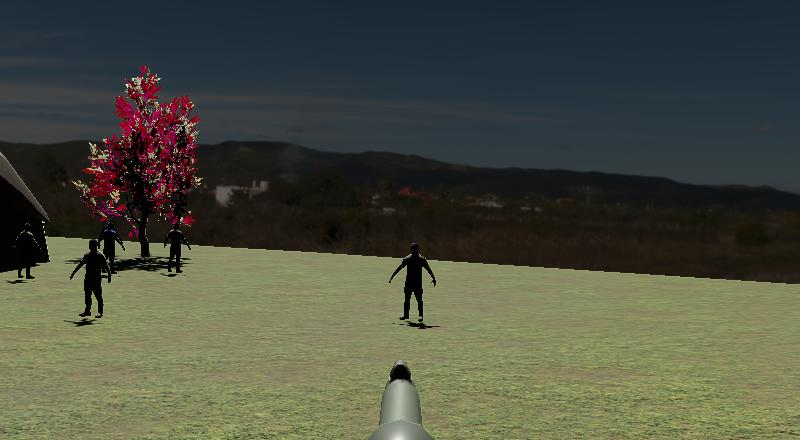Human: (387, 240, 440, 328), (68, 235, 113, 321), (10, 218, 46, 283), (160, 219, 193, 277)
